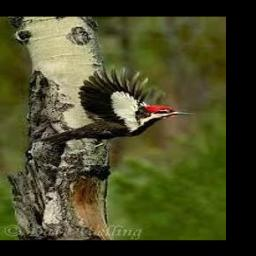Woodpecker: (34, 66, 194, 147)
